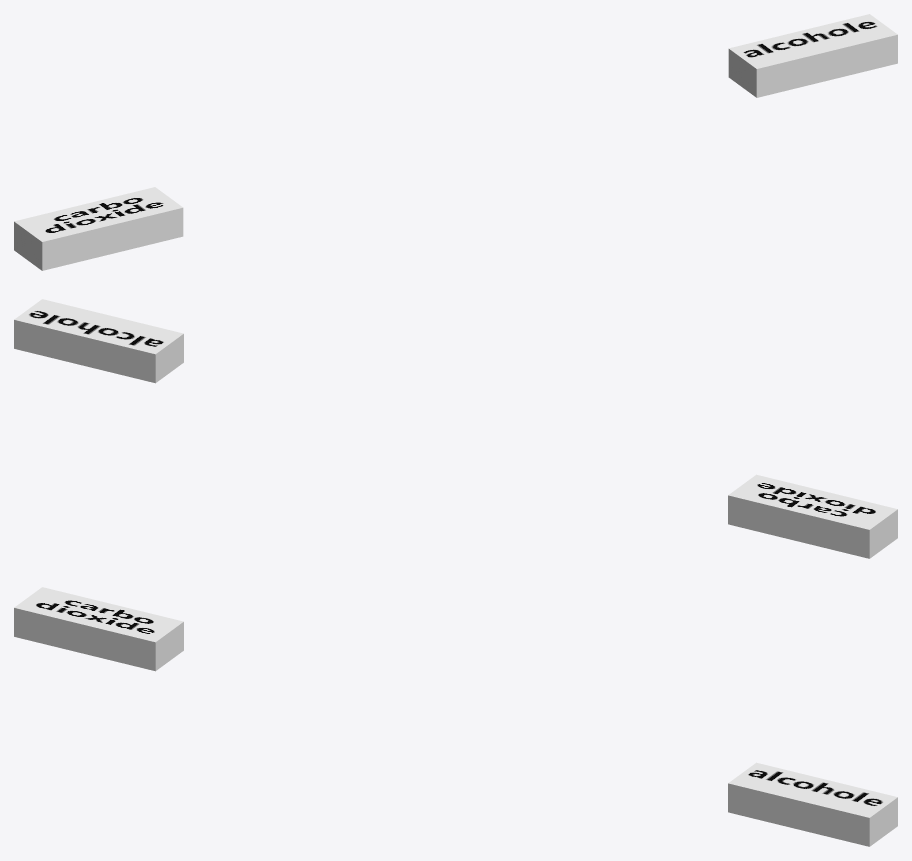
The picture shows the model from 3 angles, top to bottom: view 1: azimuth 30°, elevation 25°; view 2: azimuth 150°, elevation 25°; view 3: azimuth 330°, elevation 25°; orthographic projection.
Visible parts, largest first — view 1: pCube10, pCube4; view 2: pCube10, pCube4; view 3: pCube10, pCube4.
Boxes of the visible parts, x1,y1,x2,y2 form: pCube10: [728, 14, 897, 97]; pCube4: [14, 187, 183, 270]; pCube10: [14, 299, 183, 383]; pCube4: [728, 474, 897, 558]; pCube10: [728, 762, 897, 846]; pCube4: [14, 587, 183, 671].
Size of the model in its own units: 642 by 20.76 by 38.6.
Materials: 2 (2 with a texture image).
